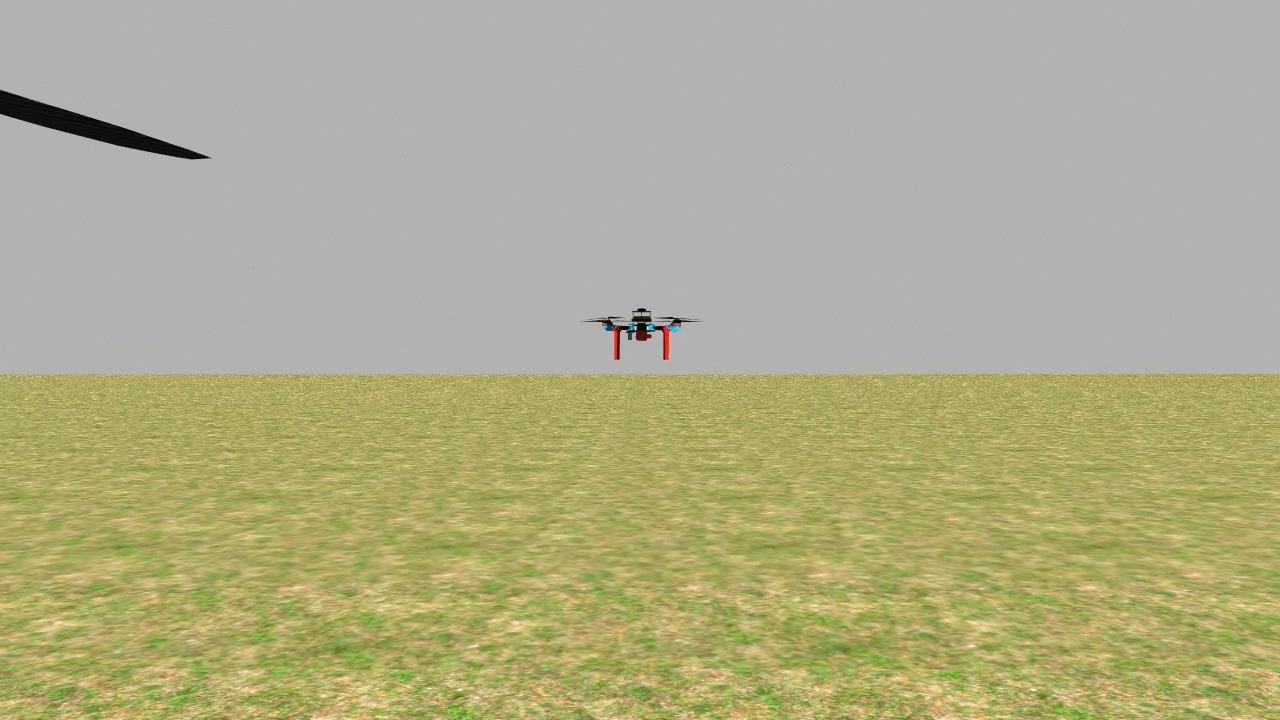UAV: (576, 288, 708, 362)
